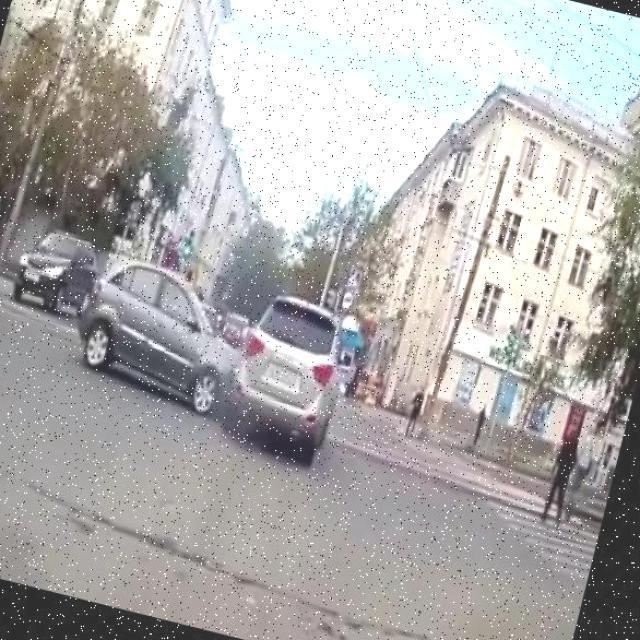accident: (55, 242, 360, 473)
